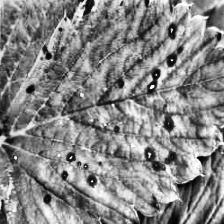Leaf Spot: (0, 0, 224, 224), (0, 0, 92, 131)
